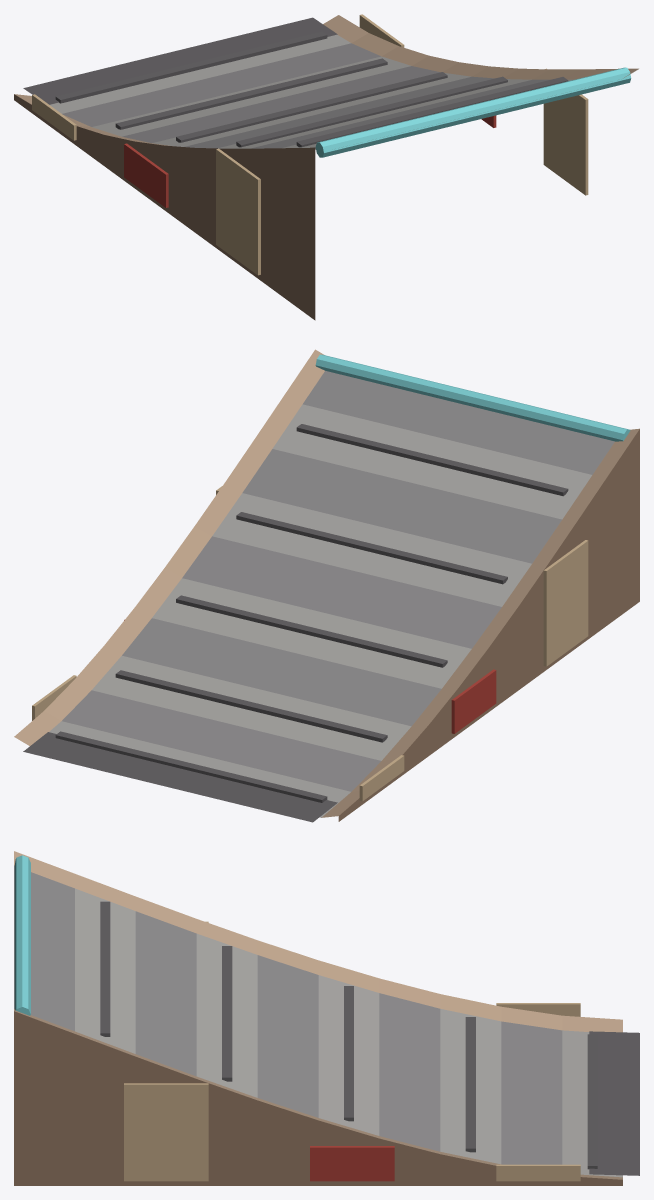
Rendered from rn2-canion-ramp.glb.
3 views of the same model, one above another, from view 1: azimuth 30°, elevation 25°; view 2: azimuth 150°, elevation 25°; view 3: azimuth 270°, elevation 25° (orthographic).
Parts seen in each view (by area): view 1: rn2_canion_ramp_body, rn2_canion_ramp_glow; view 2: rn2_canion_ramp_body, rn2_canion_ramp_glow; view 3: rn2_canion_ramp_body, rn2_canion_ramp_glow.
Boxes of the visible parts, <box> form: rn2_canion_ramp_body: <box>14,14,638,320</box>; rn2_canion_ramp_glow: <box>315,67,631,157</box>; rn2_canion_ramp_body: <box>14,349,639,822</box>; rn2_canion_ramp_glow: <box>315,354,630,441</box>; rn2_canion_ramp_body: <box>14,851,639,1185</box>; rn2_canion_ramp_glow: <box>14,855,30,1015</box>.
Size of the model in its own units: 2.28 by 1.14 by 3.7.
